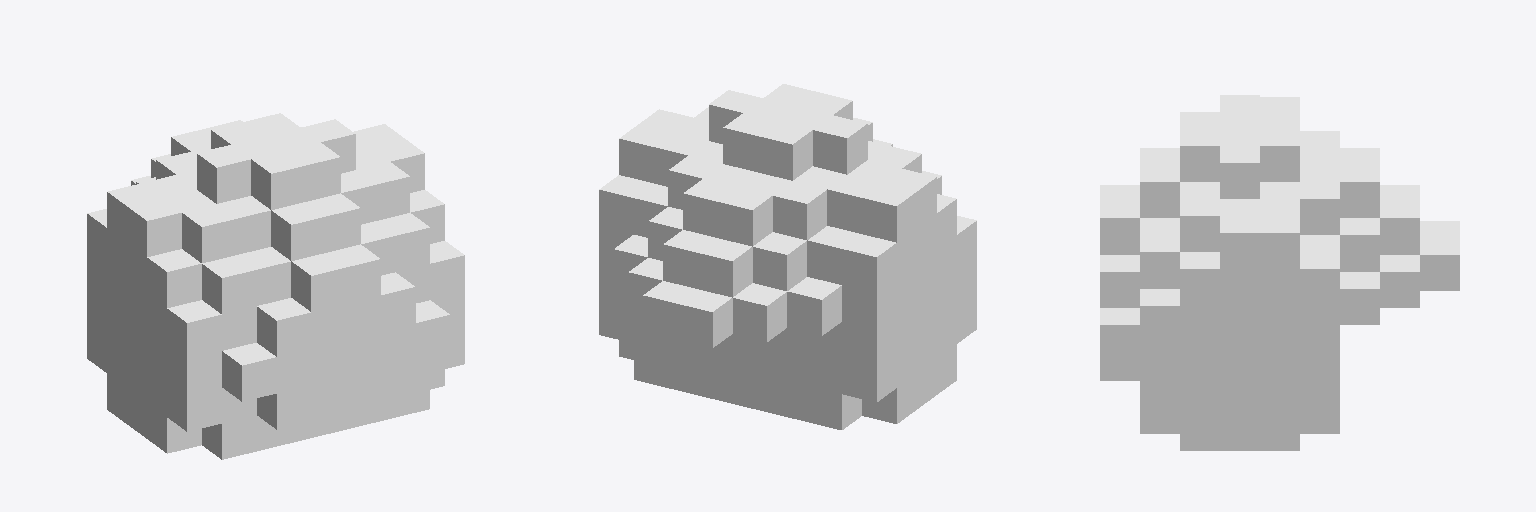
The model's file is anim_player_snowman_penskin_head.obj.
The picture shows the model from 3 angles: view 1: azimuth 30°, elevation 25°; view 2: azimuth 150°, elevation 25°; view 3: azimuth 270°, elevation 25°; orthographic projection.
Parts seen in each view (by area): view 1: object 1; view 2: object 1; view 3: object 1.
Part boxes in pixels (x1,y1,x2,y2): object 1: (87, 113, 464, 459); object 1: (599, 84, 976, 429); object 1: (1100, 95, 1459, 450).
Size of the model in its own units: 0.8 by 0.7 by 0.9.